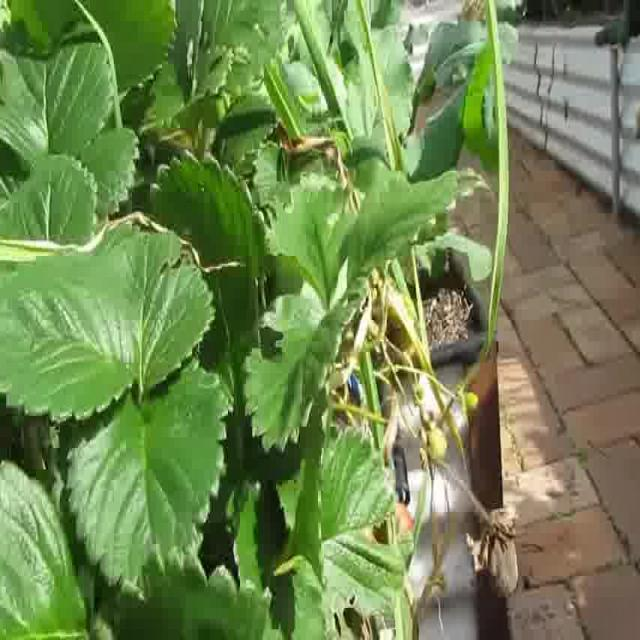Fruta sana: (379, 502, 420, 562), (424, 423, 450, 464), (464, 391, 479, 415)
Moho gris: (466, 501, 522, 604)
